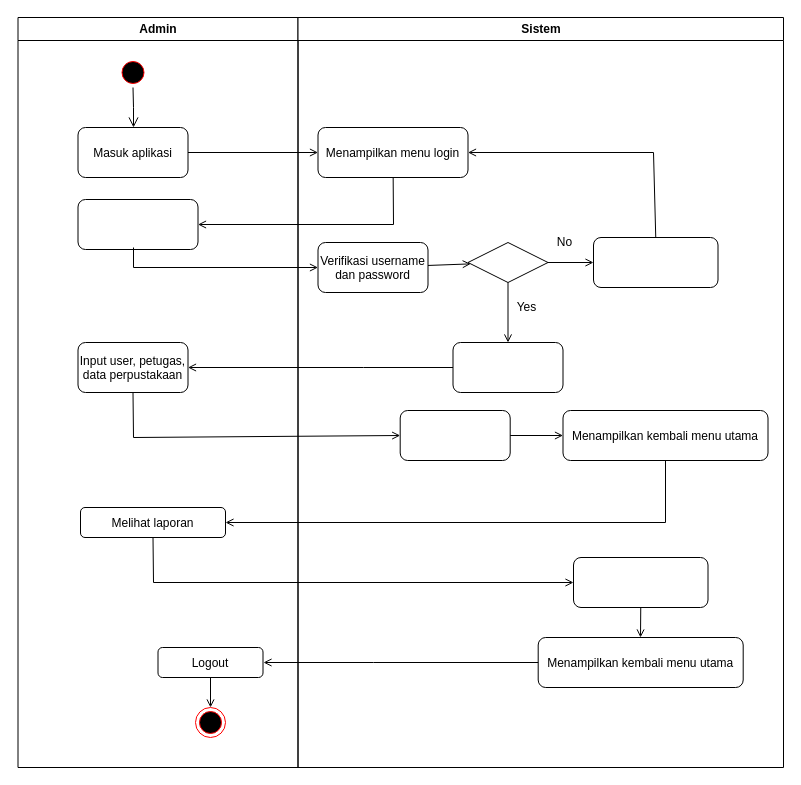
The diagram is 801 pixels wide and 785 high, and some of its shapes have lost their labels. The box of each missing label's shape, as (x1, y1, x2, y2) in pixels:
Input username dan password: (77, 198, 198, 250)
Menampilkan laporan: (572, 556, 708, 608)
Menampilkan menu utama: (452, 342, 563, 392)
Menyimpan data: (399, 410, 510, 460)
Username & password salah: (592, 236, 718, 288)
